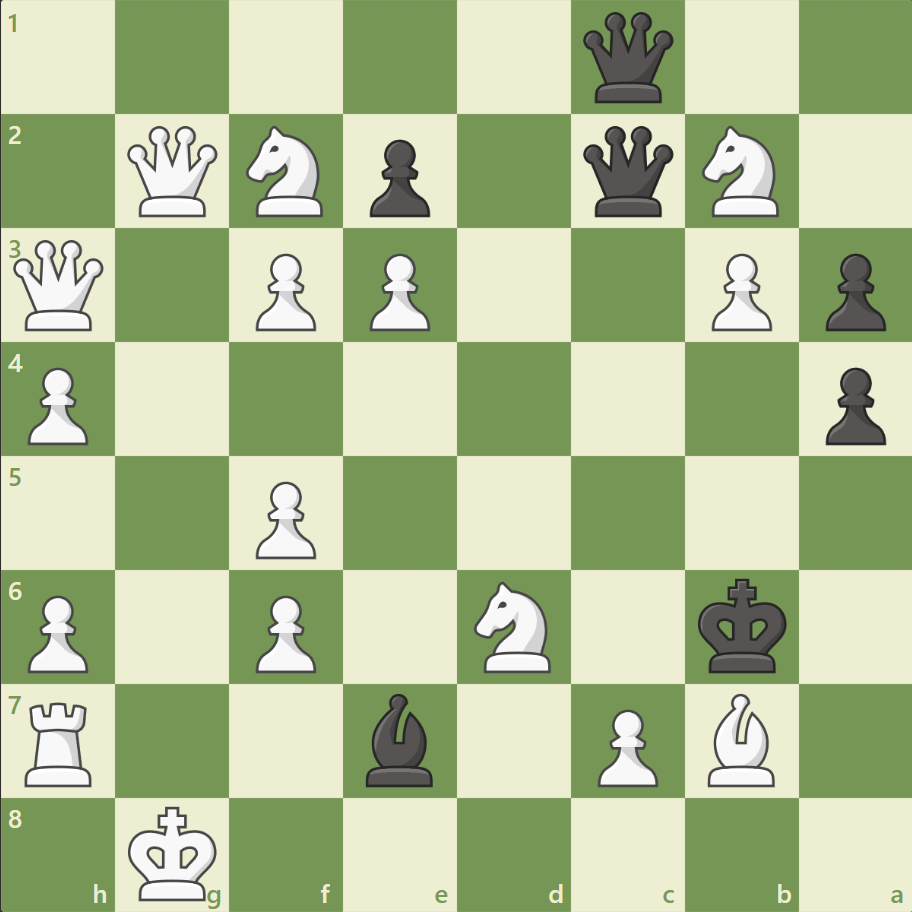B: (698, 687, 782, 790)
K: (124, 798, 224, 906)
N: (465, 575, 562, 677), (692, 121, 789, 223), (238, 121, 335, 223)
P: (247, 586, 322, 677), (20, 586, 95, 677), (247, 473, 322, 564), (20, 359, 95, 450), (701, 246, 776, 337), (247, 246, 322, 337), (588, 700, 662, 791), (361, 246, 435, 337)
Q: (124, 122, 223, 222), (10, 236, 109, 335)
R: (19, 693, 102, 790)
b: (358, 687, 442, 790)
k: (692, 571, 792, 679)
p: (815, 359, 889, 450), (815, 246, 889, 337), (361, 132, 435, 223)
q: (578, 122, 677, 222), (578, 9, 677, 108)
